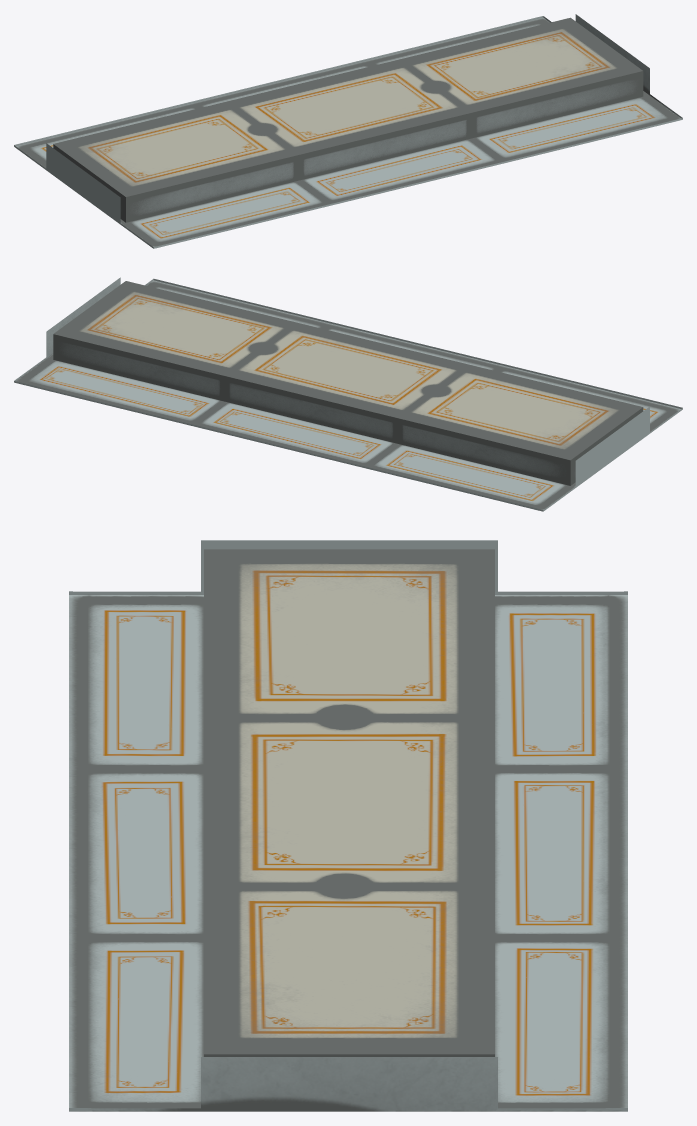
The model's file is SM_Home_Roof.fbx.
3 views of the same model, one above another, from view 1: azimuth 30°, elevation 25°; view 2: azimuth 150°, elevation 25°; view 3: azimuth 270°, elevation 25° (orthographic). The views are drawn at different scales.
Parts seen in each view (by area): view 1: SM_Home_Roof; view 2: SM_Home_Roof; view 3: SM_Home_Roof.
Part boxes in pixels (x1,y1,x2,y2): SM_Home_Roof: (14,14,682,248); SM_Home_Roof: (14,277,682,511); SM_Home_Roof: (69,540,627,1111).
Size of the model in its own units: 718 by 328 by 35.37.
Materials: 1 (1 with a texture image).
